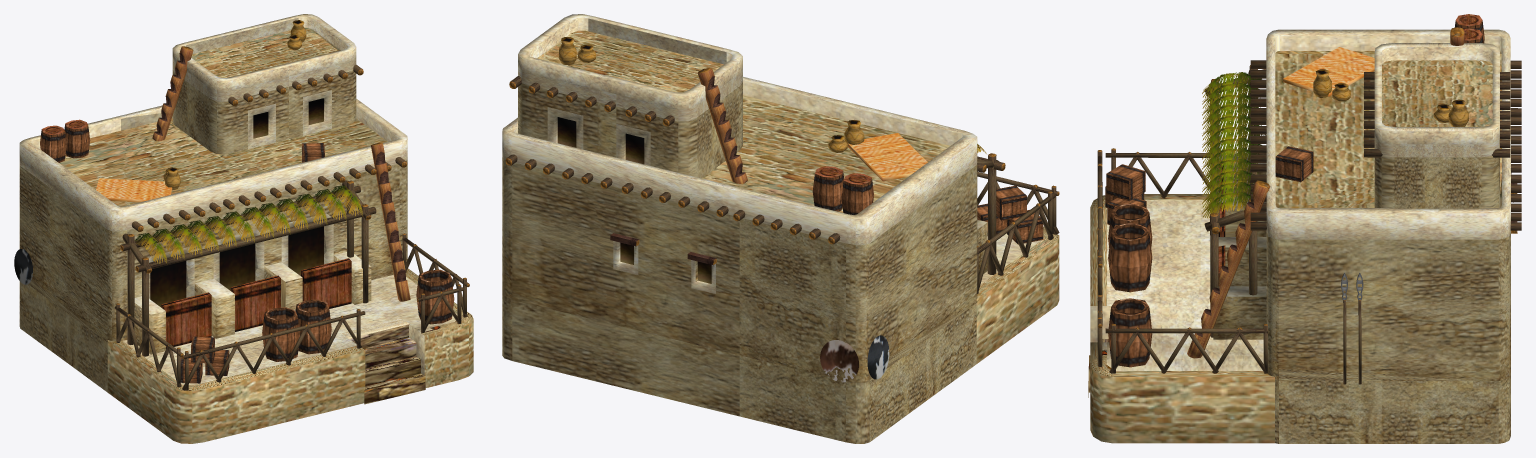
Rendered from stable.dae.
The picture shows the model from 3 angles, left to right: view 1: azimuth 30°, elevation 25°; view 2: azimuth 150°, elevation 25°; view 3: azimuth 270°, elevation 25°; orthographic projection. The views are drawn at different scales.
Visible parts, largest first — view 1: stable; view 2: stable; view 3: stable.
Boxes of the visible parts, x1,y1,x2,y2 form: stable: (14, 14, 473, 443); stable: (502, 14, 1059, 443); stable: (1088, 14, 1521, 443).
Bounding box in the file's own units: 19.85 × 19.2 × 15.84.
